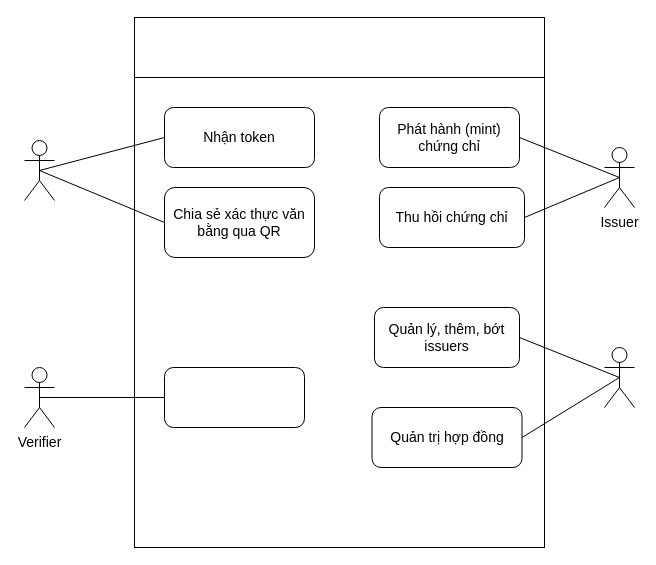
This 656x565 diagram has some shape labels left out. Here are the shapes that lost their labels. From the top down, the centre of each, then its label:
At (x=339, y=47): "Use case ứng dụng".
At (x=39, y=170): "Holder".
At (x=234, y=397): "Đọc trạng thái on-chain, so khớp hash".
At (x=619, y=377): "Admin".
